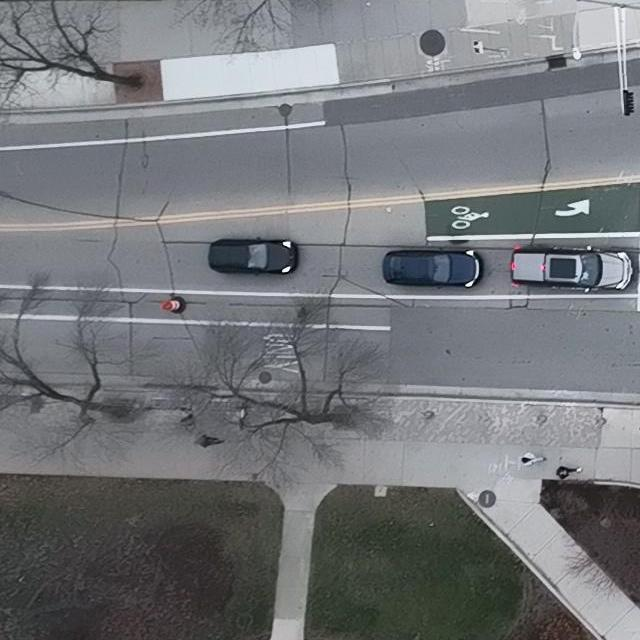car: (510, 244, 633, 294), (382, 247, 483, 289), (208, 236, 299, 276)
